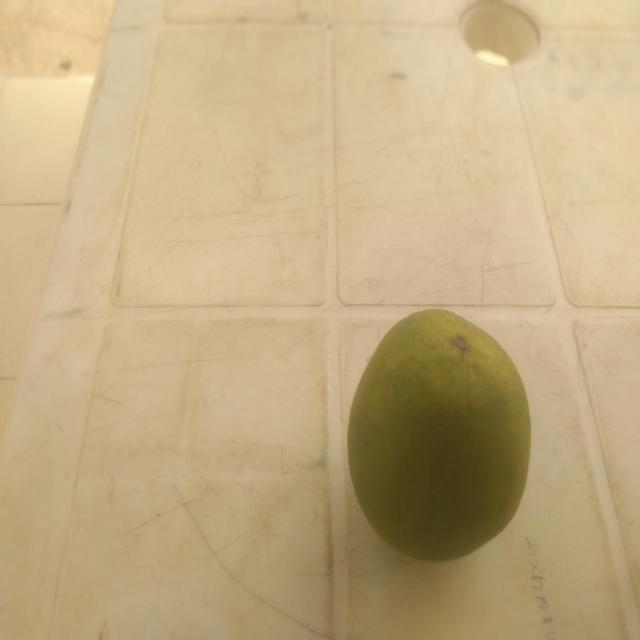Unripe: (333, 285, 561, 580)
